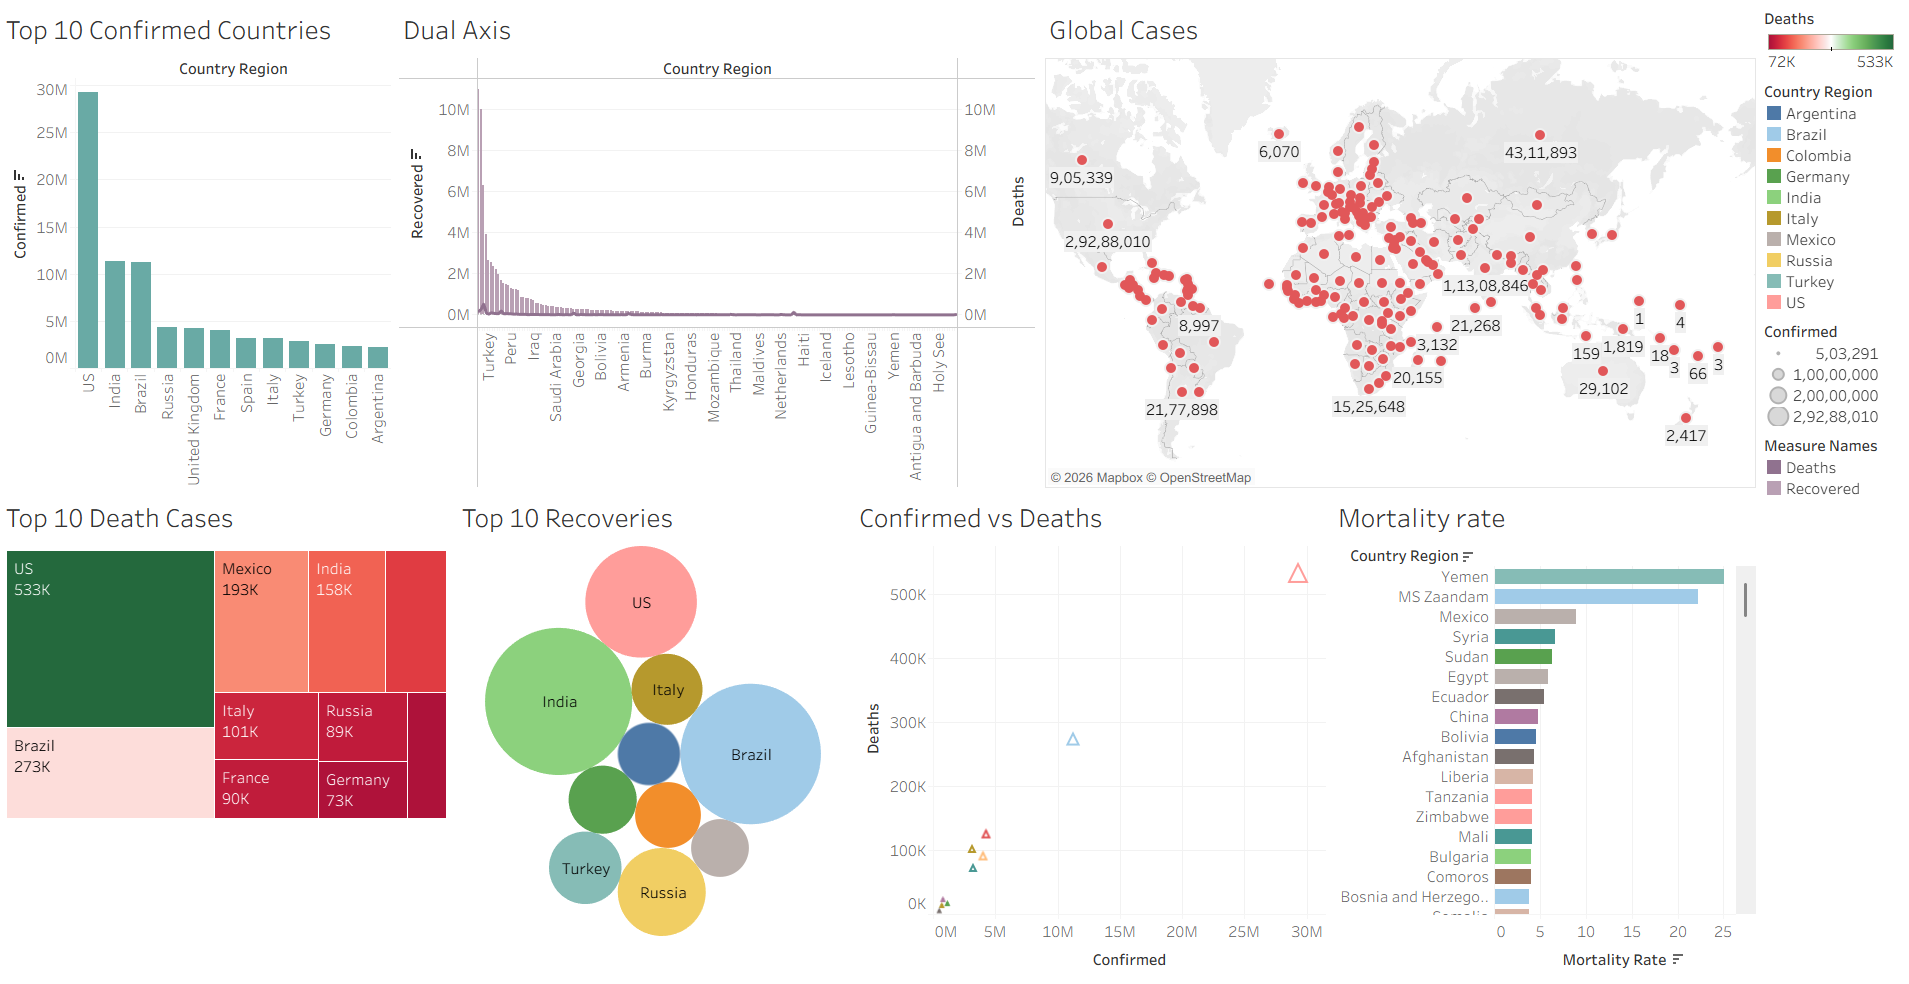

Layout of this report page (visuals, bound fields, positions):
{"tool":"tableau","page":{"name":"Dashboard 1","canvas":[1000,1000],"units":"permille","ordinal":0},"visuals":[{"type":"worksheet","title":"Top 10 Confirmed Countries","mark":"Automatic","rows":["Confirmed"],"cols":["Country Region"],"box":[4.8,10,204,489.9]},{"type":"worksheet","title":"Dual Axis","mark":"Line","rows":["Recovered","Deaths"],"cols":["Country Region"],"box":[208.8,10,331.3,489.9]},{"type":"worksheet","title":"Global Cases","mark":"Automatic","box":[540.1,10,369.4,489.9]},{"type":"legend","title":"Top 10 Death Cases","param":"[federated.0tvkutp14jro2r1c3guv91nd9ete].[sum:Deaths:qk]","box":[909.5,10,85.7,91.1]},{"type":"legend","title":"Top 10 Recoveries","param":"[federated.0tvkutp14jro2r1c3guv91nd9ete].[none:Country Region:nk]","box":[909.5,101.1,85.7,299.6]},{"type":"legend","title":"Confirmed vs Deaths","param":"[federated.0tvkutp14jro2r1c3guv91nd9ete].[sum:Confirmed:qk]","box":[909.5,400.8,85.7,142.3]},{"type":"worksheet","title":"Top 10 Death Cases","mark":"Automatic","box":[4.8,499.9,233.9,490.1]},{"type":"worksheet","title":"Top 10 Recoveries","mark":"Circle","box":[238.7,499.9,204.2,490.1]},{"type":"worksheet","title":"Confirmed vs Deaths","mark":"Shape","rows":["Deaths"],"cols":["Confirmed"],"box":[442.9,499.9,245.9,490.1]},{"type":"worksheet","title":"Mortality rate","mark":"Automatic","rows":["Country Region"],"cols":["Mortality Rate"],"box":[688.9,499.9,220.6,490.1]},{"type":"legend","title":"Dual Axis","param":"[federated.0tvkutp14jro2r1c3guv91nd9ete].[:Measure Names]","box":[909.5,543.1,85.7,89.9]}]}

Visuals, with their boxes on the dashboard's canvas, which has no fixed pixel size, in thousandths of its width and height (x1, y1, x2, y2). These are canvas units, not pixel positions in the 1909x984 screenshot, which may show the page scaled, cropped or inside an application window:
"Top 10 Confirmed Countries" worksheet: left=5, top=10, right=209, bottom=500
"Dual Axis" worksheet (Line marks): left=209, top=10, right=540, bottom=500
"Global Cases" worksheet: left=540, top=10, right=910, bottom=500
"Top 10 Death Cases" legend: left=910, top=10, right=995, bottom=101
"Top 10 Recoveries" legend: left=910, top=101, right=995, bottom=401
"Confirmed vs Deaths" legend: left=910, top=401, right=995, bottom=543
"Top 10 Death Cases" worksheet: left=5, top=500, right=239, bottom=990
"Top 10 Recoveries" worksheet (Circle marks): left=239, top=500, right=443, bottom=990
"Confirmed vs Deaths" worksheet (Shape marks): left=443, top=500, right=689, bottom=990
"Mortality rate" worksheet: left=689, top=500, right=910, bottom=990
"Dual Axis" legend: left=910, top=543, right=995, bottom=633
